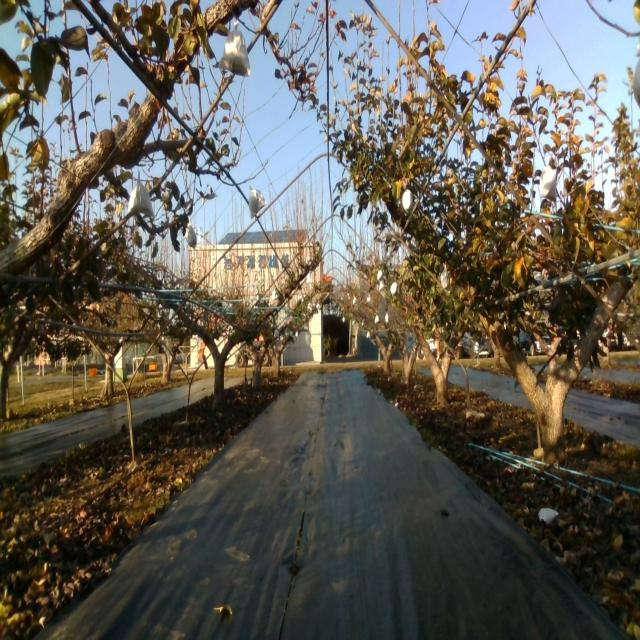pearbags: (216, 22, 252, 76), (128, 182, 154, 218), (248, 186, 267, 219), (540, 166, 556, 201), (185, 221, 197, 249), (400, 189, 413, 214)
